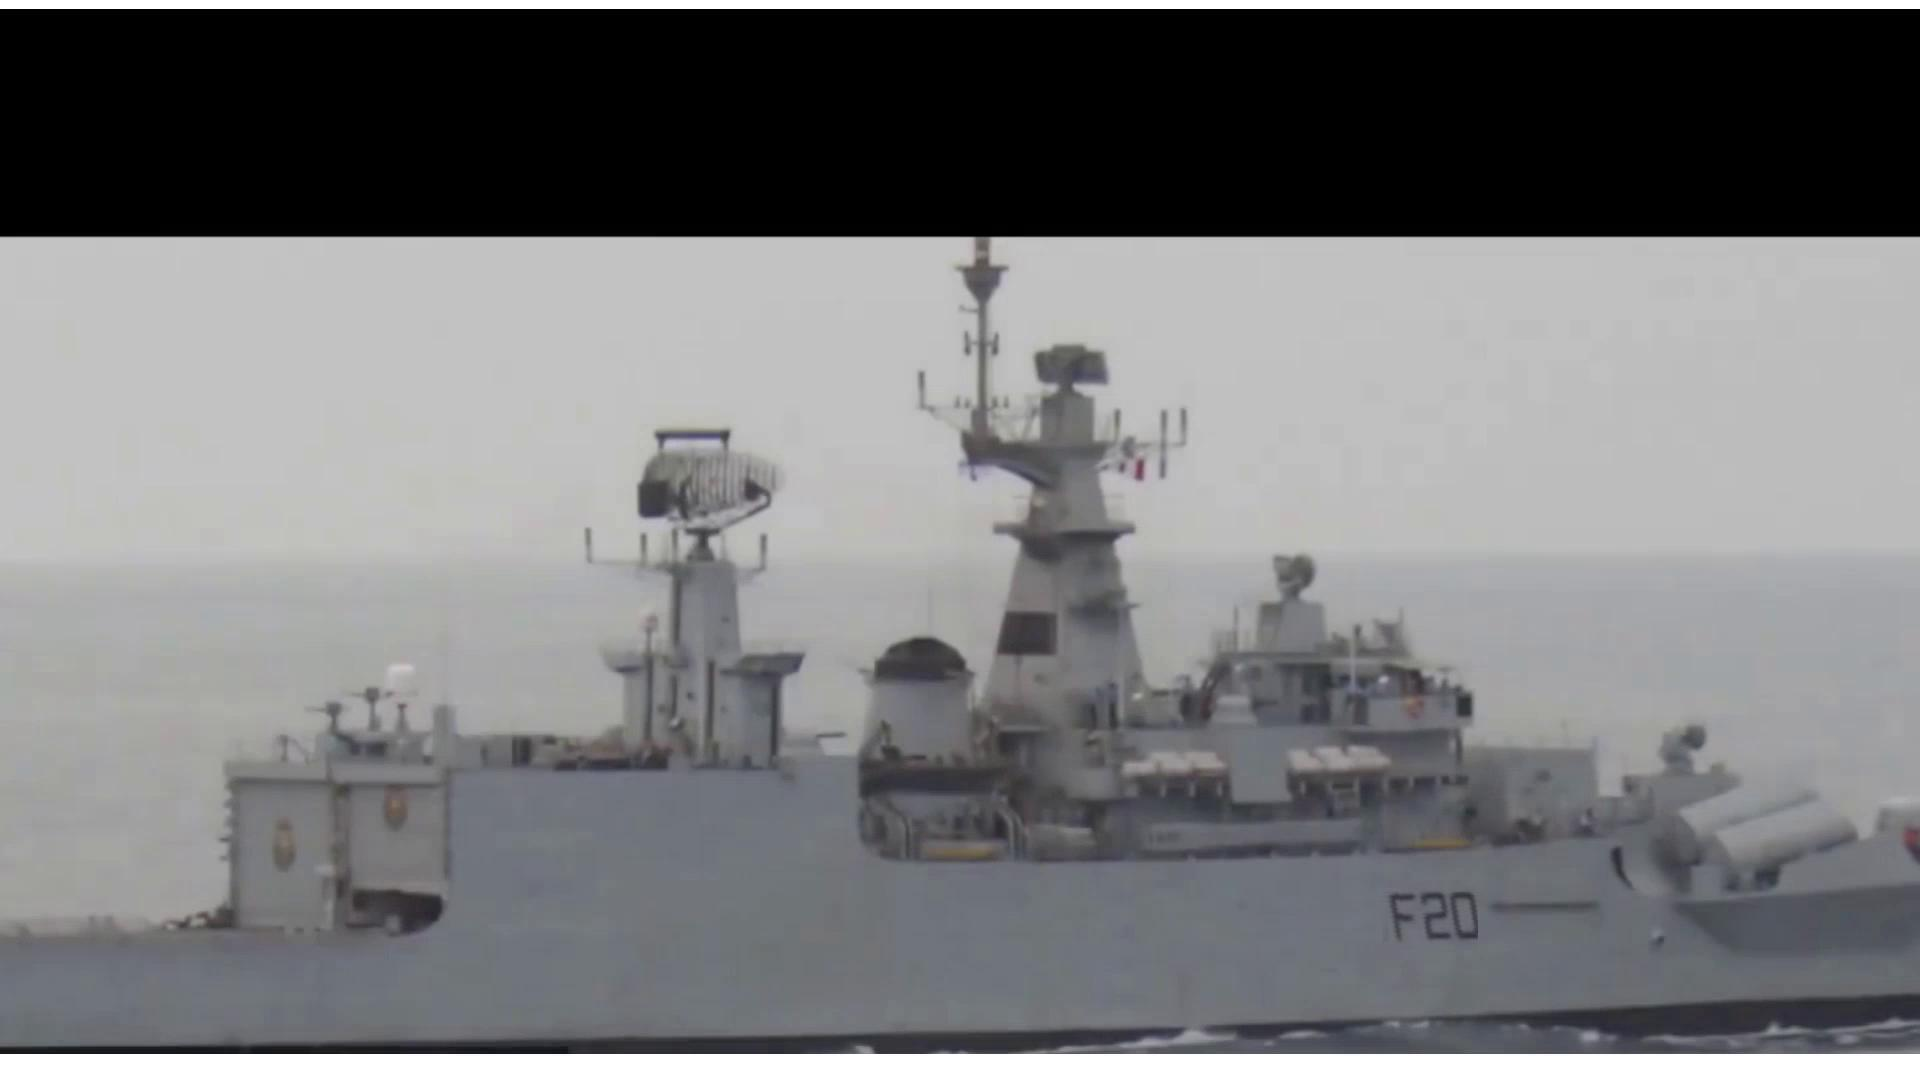OCR: (1373, 881, 1478, 949)
